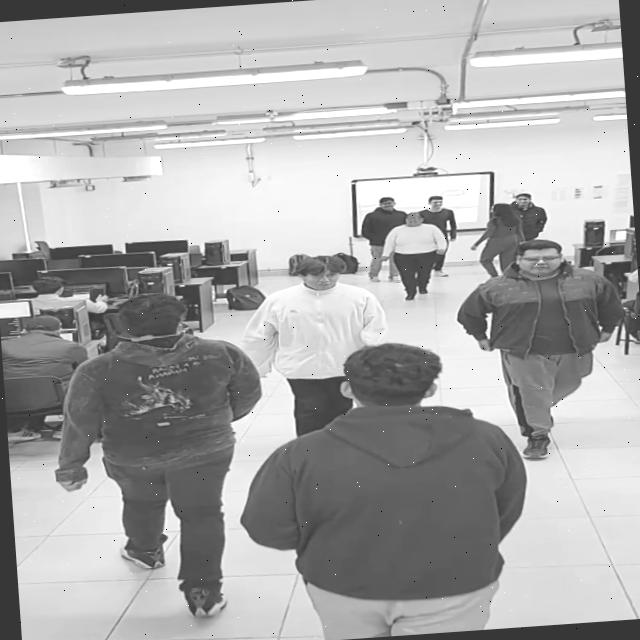Persona: (225, 333, 536, 640), (40, 286, 278, 627), (452, 233, 636, 466), (228, 250, 397, 440), (376, 210, 451, 302), (356, 194, 411, 284), (464, 200, 527, 277), (507, 191, 550, 243), (416, 194, 456, 244)
